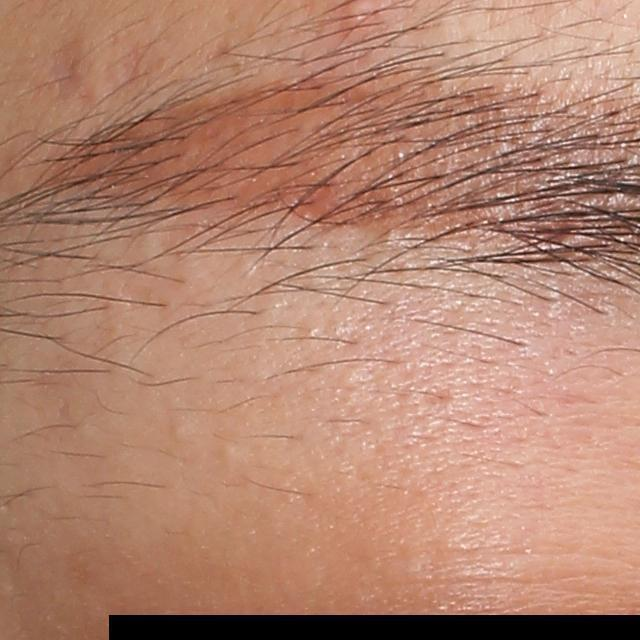comedo: (214, 438, 240, 464), (167, 421, 191, 445)
papule: (344, 5, 379, 36)
